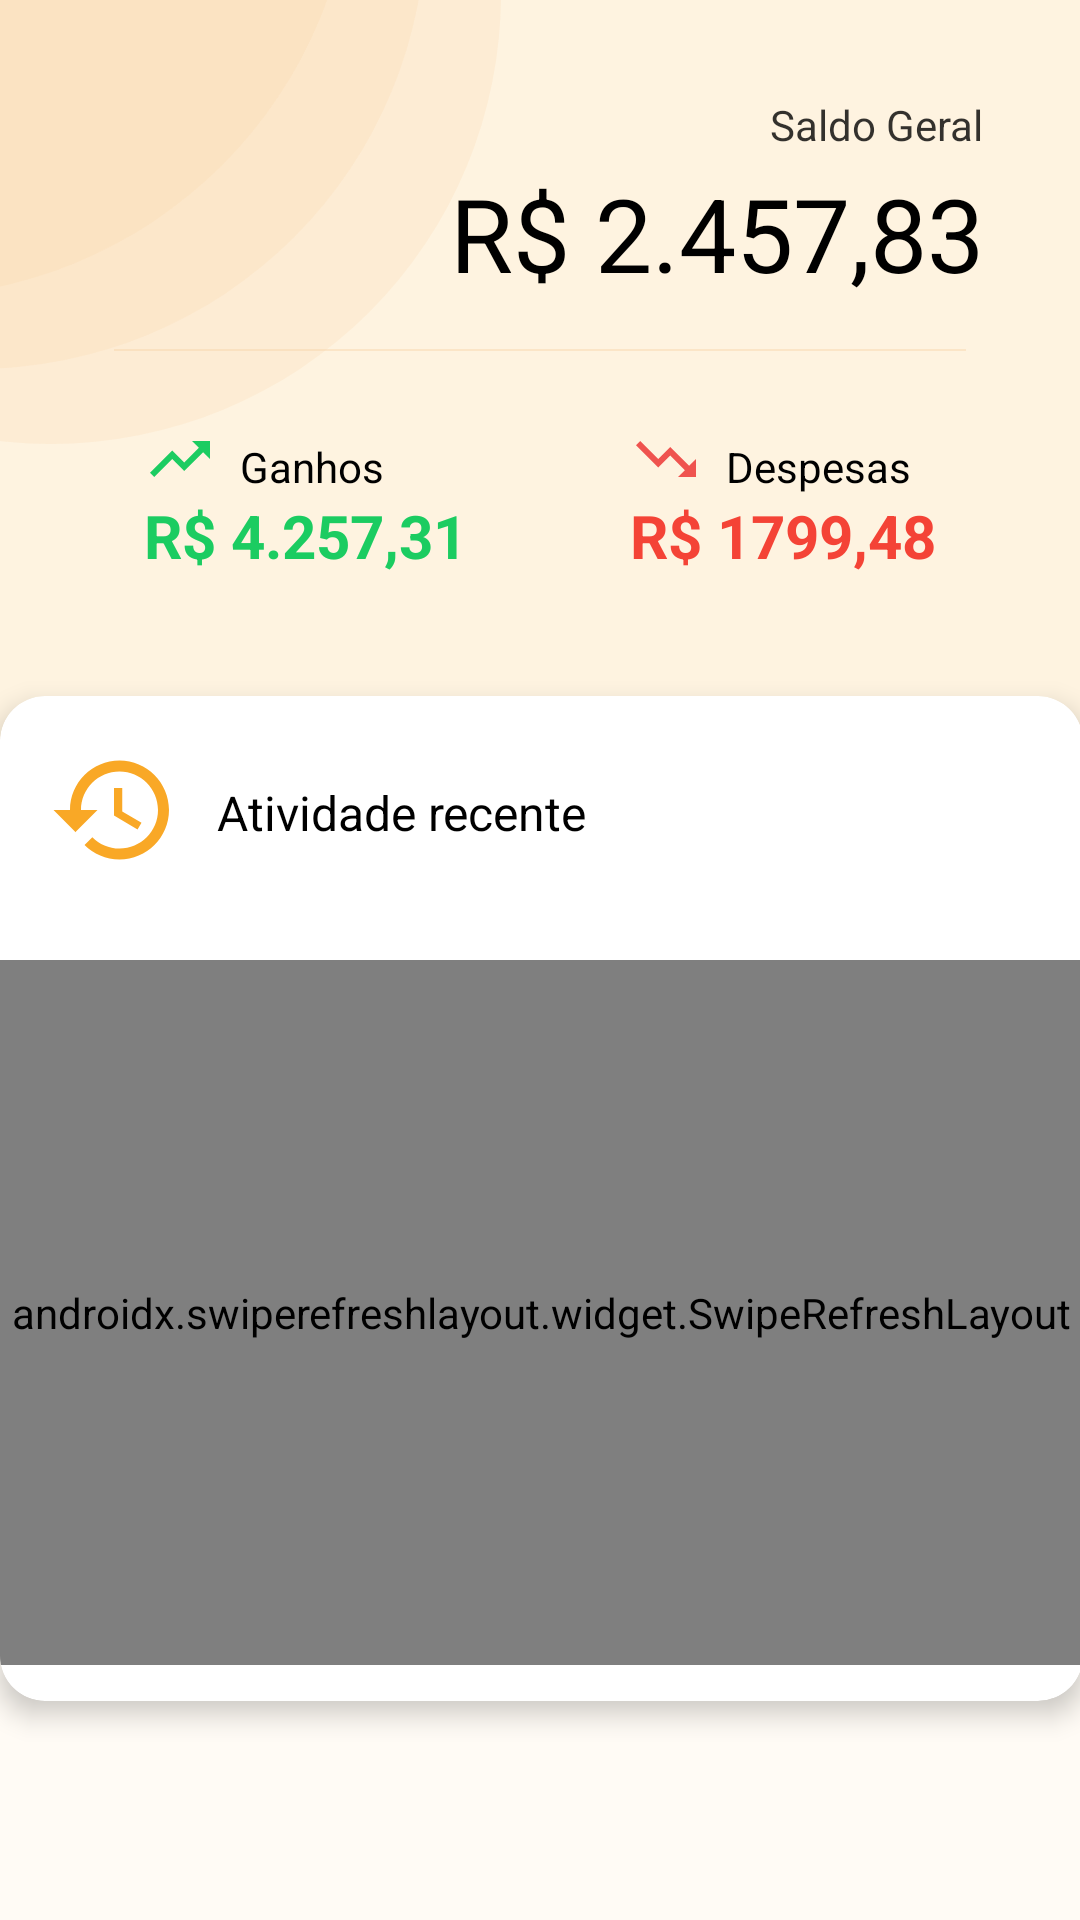

Icon click points for this 1080×1920 phone screenshot, format [x,y]:
history: [111,810]
trending down: [666,459]
trending up: [180,459]
